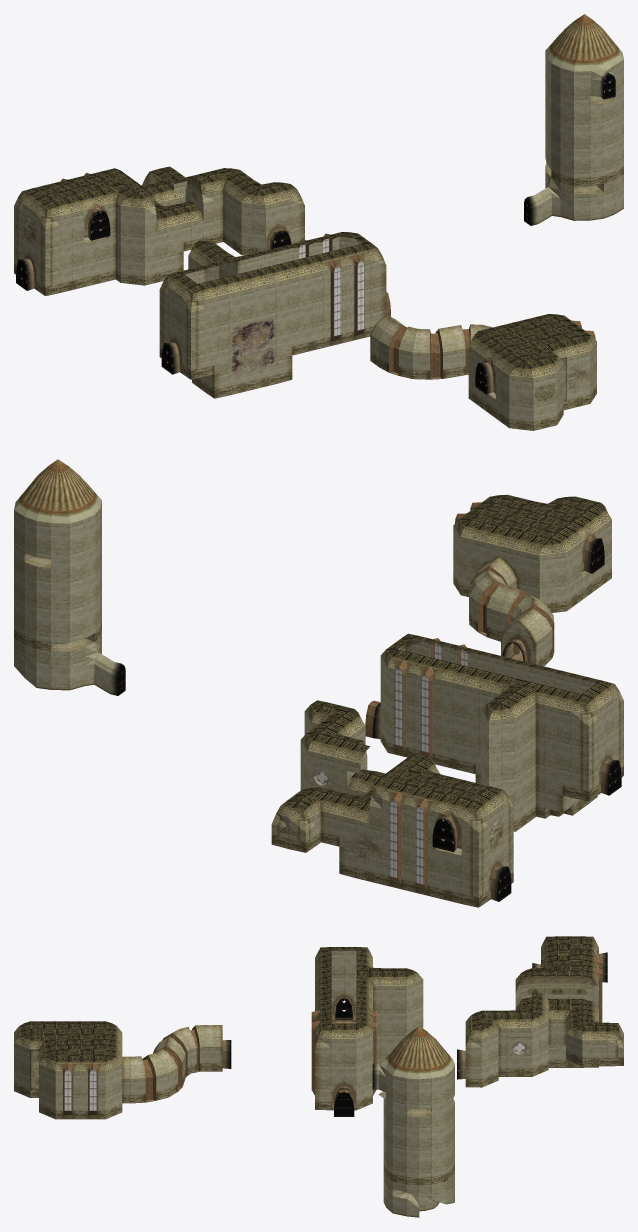
The picture shows the model from 3 angles, top to bottom: view 1: azimuth 30°, elevation 25°; view 2: azimuth 150°, elevation 25°; view 3: azimuth 270°, elevation 25°; orthographic projection. The views are drawn at different scales.
Visible parts, largest first — view 1: T1L6M002_164, T1L6M002_275, T1L6M002_163, T1L6M002_137, T1L6M002_55, T1L6M002_136, T1L6M002_86, T1L6M002_243, T1L6M002_239, T1L6M002_168, T1L6M002_159, T1L6M002_309 (+54 smaller); view 2: T1L6M002_116, T1L6M002_111, T1L6M002_6, T1L6M002_115, T1L6M002_136, T1L6M002_137, T1L6M002_120, T1L6M002_0, T1L6M002_309, T1L6M002_181, T1L6M002_17, T1L6M002_29 (+57 smaller); view 3: T1L6M002_144, T1L6M002_121, T1L6M002_216, T1L6M002_148, T1L6M002_283, T1L6M002_38, T1L6M002_169, T1L6M002_278, T1L6M002_173, T1L6M002_271, T1L6M002_226, T1L6M002_62 (+51 smaller).
Boxes of the visible parts, bbox=[...] form: T1L6M002_164: bbox=[574, 36, 614, 103]; T1L6M002_275: bbox=[398, 328, 442, 379]; T1L6M002_163: bbox=[560, 174, 590, 220]; T1L6M002_137: bbox=[546, 32, 579, 99]; T1L6M002_55: bbox=[75, 189, 110, 243]; T1L6M002_136: bbox=[524, 173, 560, 225]; T1L6M002_86: bbox=[183, 176, 215, 230]; T1L6M002_243: bbox=[253, 316, 276, 370]; T1L6M002_239: bbox=[230, 322, 253, 376]; T1L6M002_168: bbox=[587, 172, 614, 220]; T1L6M002_159: bbox=[560, 68, 590, 104]; T1L6M002_309: bbox=[475, 343, 510, 399]; T1L6M002_116: bbox=[24, 471, 71, 559]; T1L6M002_111: bbox=[51, 484, 85, 560]; T1L6M002_6: bbox=[432, 794, 471, 855]; T1L6M002_115: bbox=[51, 641, 85, 690]; T1L6M002_136: bbox=[85, 636, 125, 695]; T1L6M002_137: bbox=[71, 475, 101, 555]; T1L6M002_120: bbox=[24, 636, 53, 689]; T1L6M002_0: bbox=[288, 801, 315, 852]; T1L6M002_309: bbox=[565, 516, 604, 579]; T1L6M002_181: bbox=[545, 770, 572, 818]; T1L6M002_17: bbox=[356, 778, 392, 836]; T1L6M002_29: bbox=[488, 842, 511, 901]; T1L6M002_144: bbox=[393, 1035, 431, 1109]; T1L6M002_121: bbox=[422, 1035, 452, 1108]; T1L6M002_216: bbox=[331, 982, 356, 1023]; T1L6M002_148: bbox=[393, 1177, 431, 1217]; T1L6M002_283: bbox=[130, 1051, 168, 1100]; T1L6M002_38: bbox=[557, 970, 582, 1003]; T1L6M002_169: bbox=[386, 1044, 406, 1108]; T1L6M002_278: bbox=[156, 1049, 181, 1100]; T1L6M002_173: bbox=[386, 1168, 406, 1216]; T1L6M002_271: bbox=[172, 1033, 205, 1079]; T1L6M002_226: bbox=[331, 1070, 356, 1110]; T1L6M002_62: bbox=[532, 970, 557, 1003].
Bounding box in the file's own units: 87.69 × 39 × 97.25.
1 material, 1 textured.
